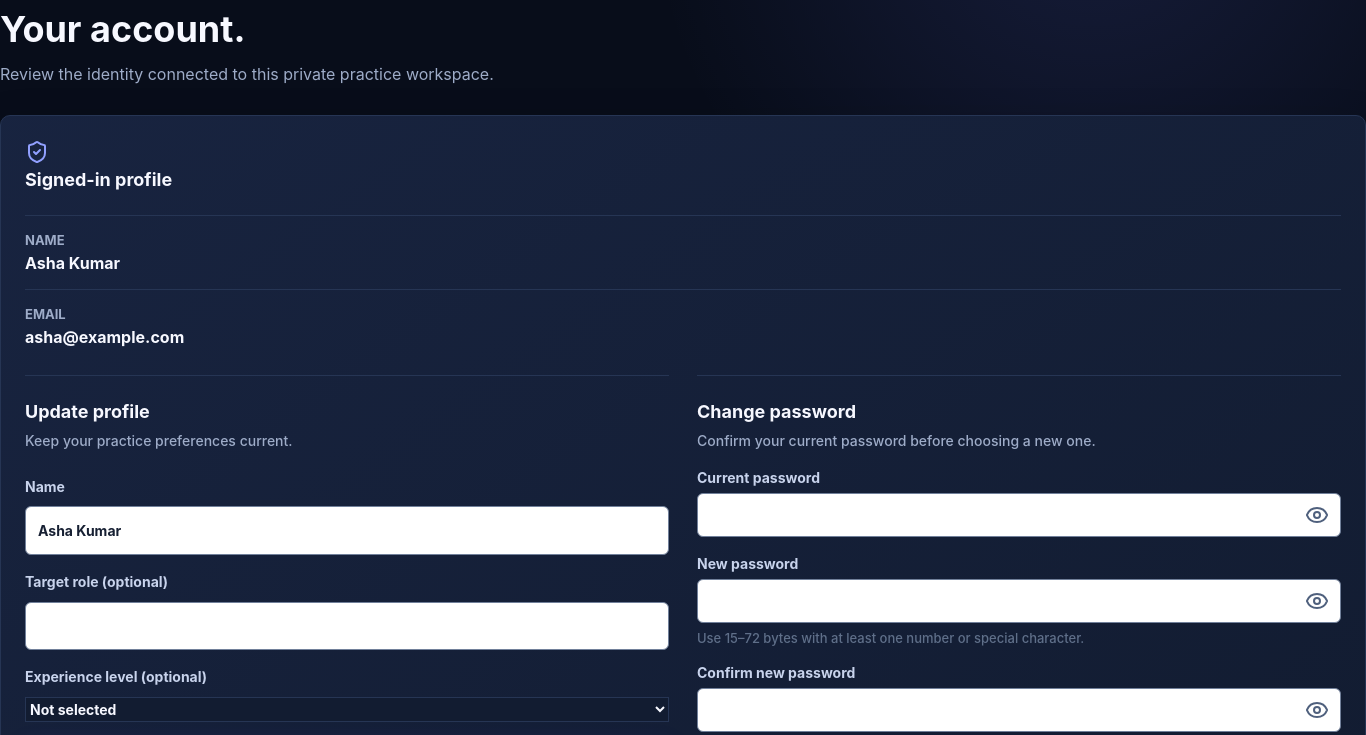
Test: AccountPage › saves allow-listed profile fields
The image size is (1366, 735).
Replace the text in the field labelled "Name" with "Asha Updated" at (347, 531), box [25,506,669,555]
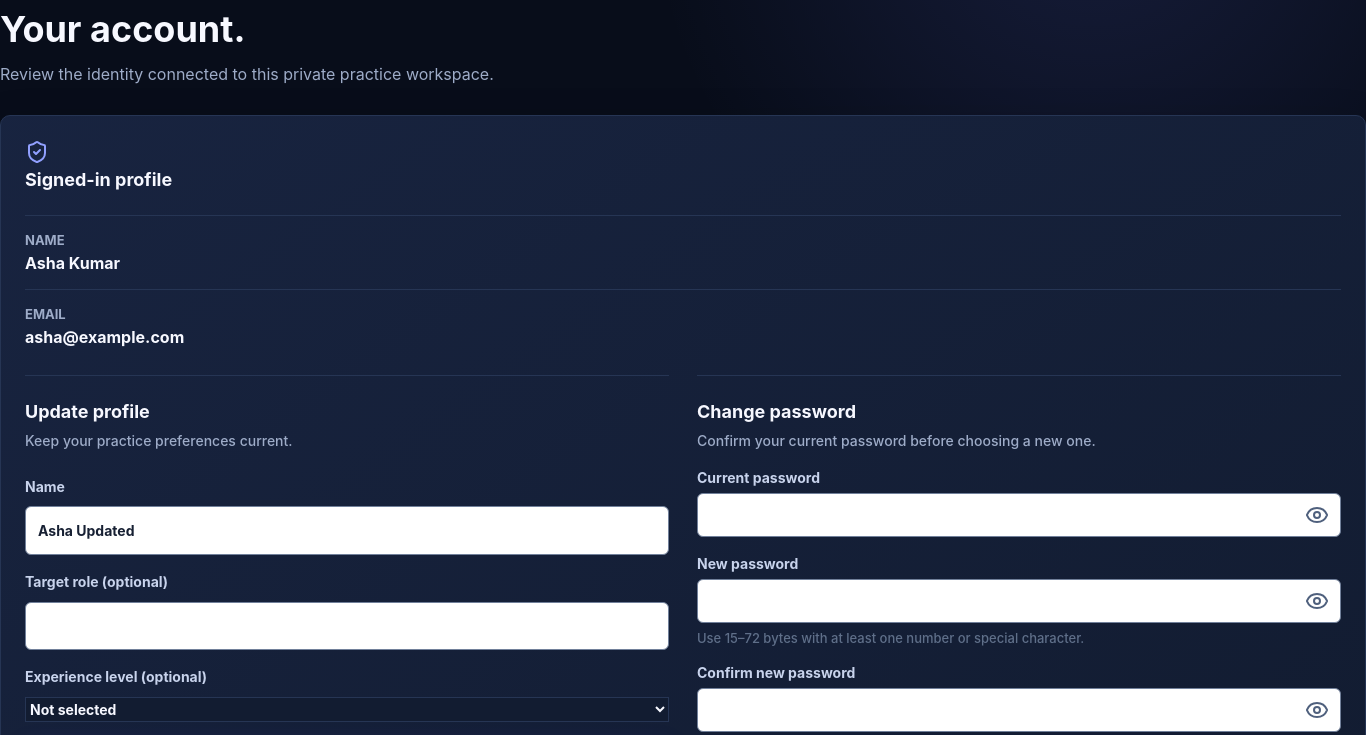
Type "Platform Engineer" into the field labelled "Target role (optional)" at (347, 626), box [25,602,669,650]
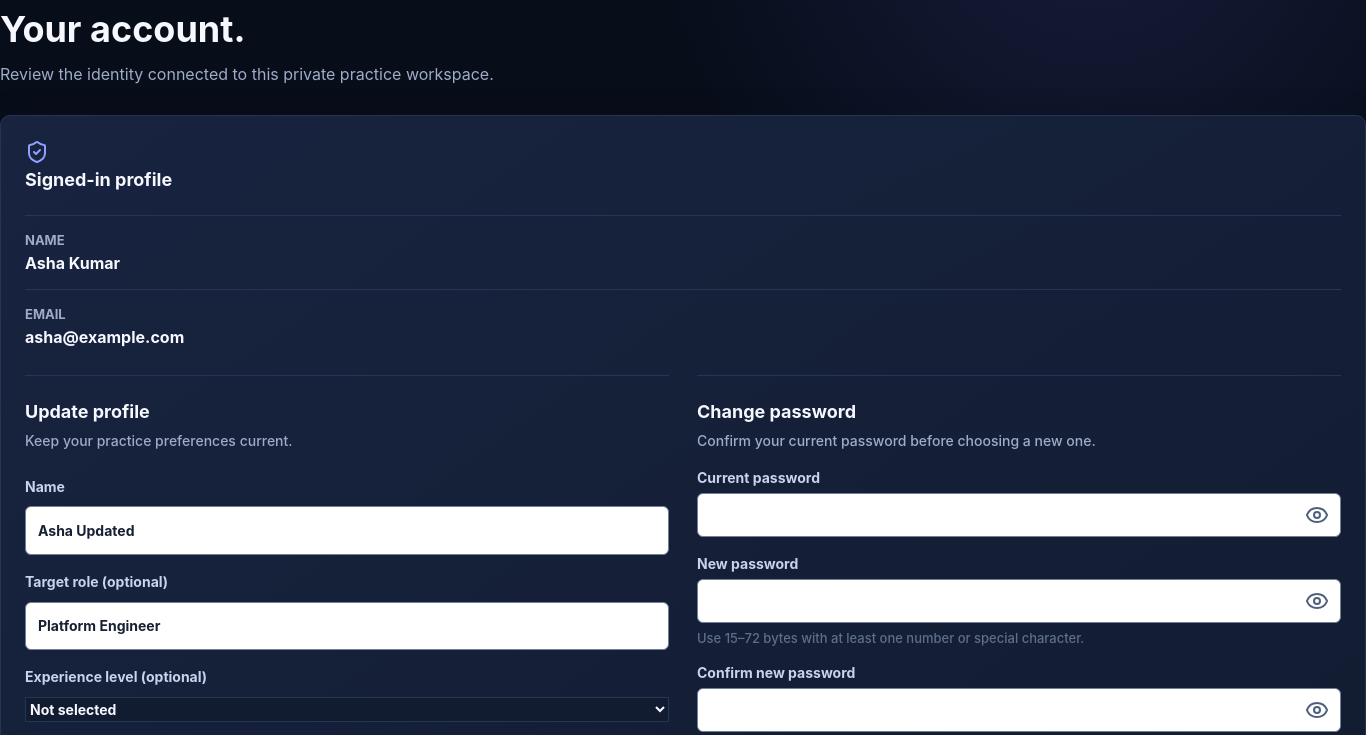
Select "Advanced" in the dropdown labelled "Experience level (optional)" at (347, 710), box [25,697,669,722]
(page scrolled)
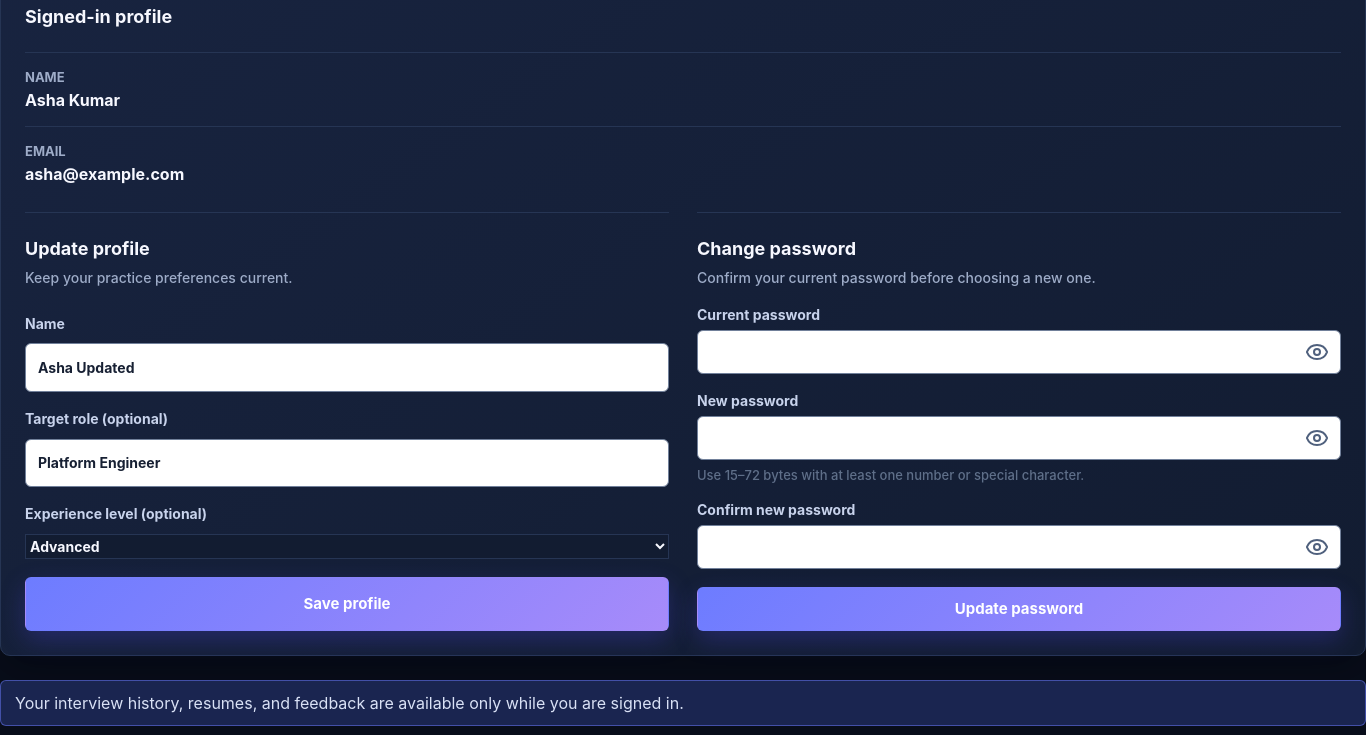
Click the button "Save profile" at (347, 604), box [25,577,669,631]
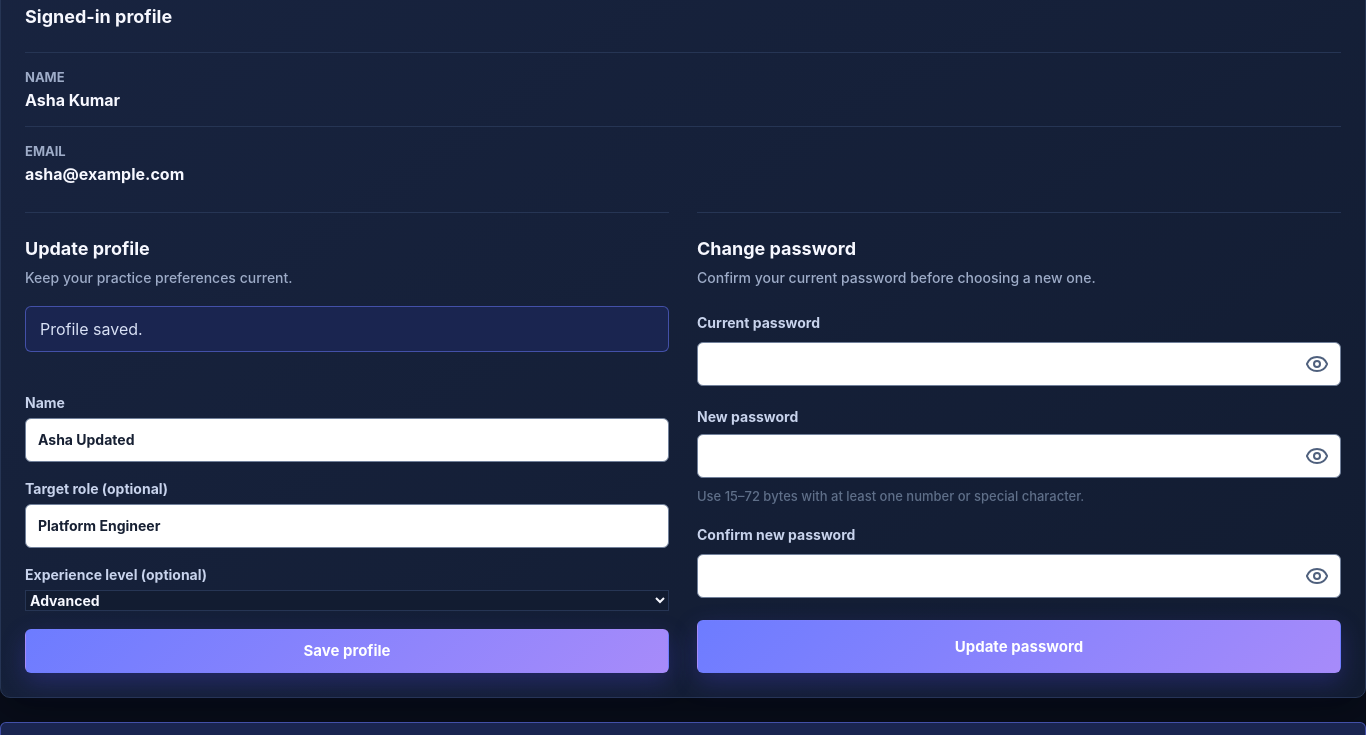
Now the text "Profile saved." is shown, box [25,306,669,352]
